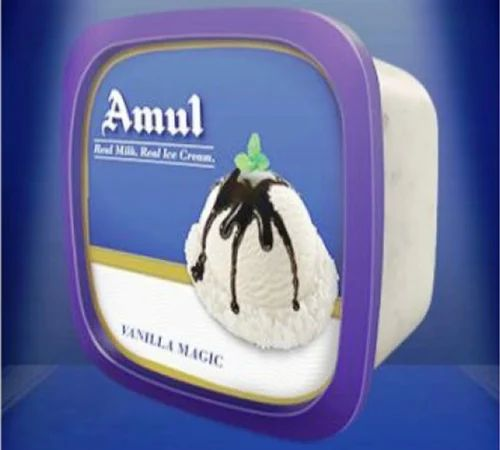Amul: (81, 75, 208, 144)
